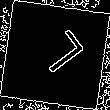L_SW: (25, 27, 85, 83)
